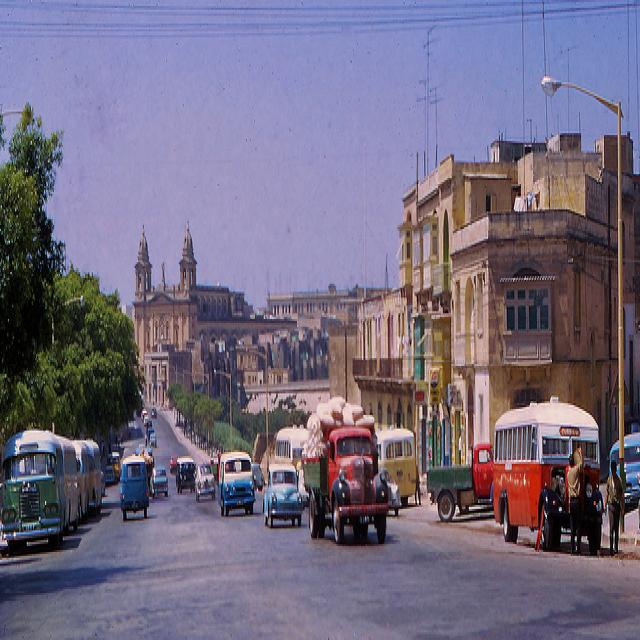Vehicle: (52, 391, 606, 554), (493, 397, 604, 554), (300, 394, 389, 544), (1, 430, 79, 553), (427, 442, 494, 524), (375, 420, 417, 509), (262, 463, 303, 526), (218, 451, 255, 517), (608, 430, 640, 503), (121, 457, 149, 523), (275, 424, 308, 475), (83, 438, 103, 517), (70, 440, 90, 518), (175, 454, 196, 496), (194, 462, 216, 502), (150, 468, 168, 499), (252, 462, 266, 491), (104, 464, 115, 484), (150, 433, 157, 448), (151, 407, 158, 418)
